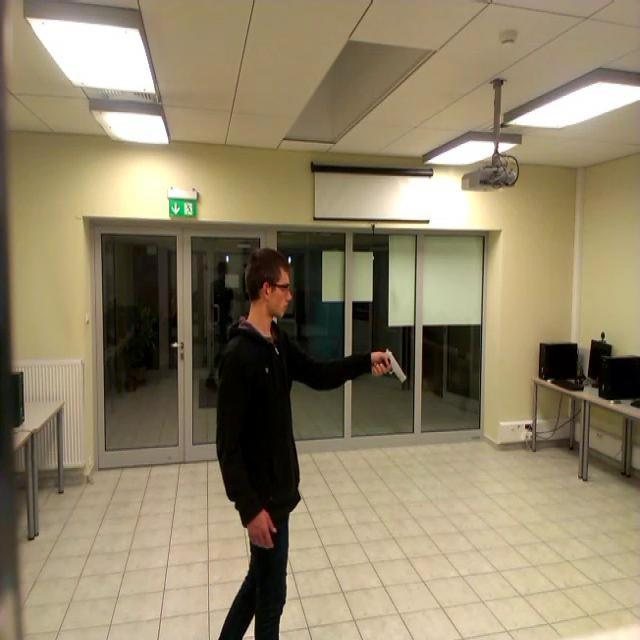weapon: (372, 349, 406, 384)
